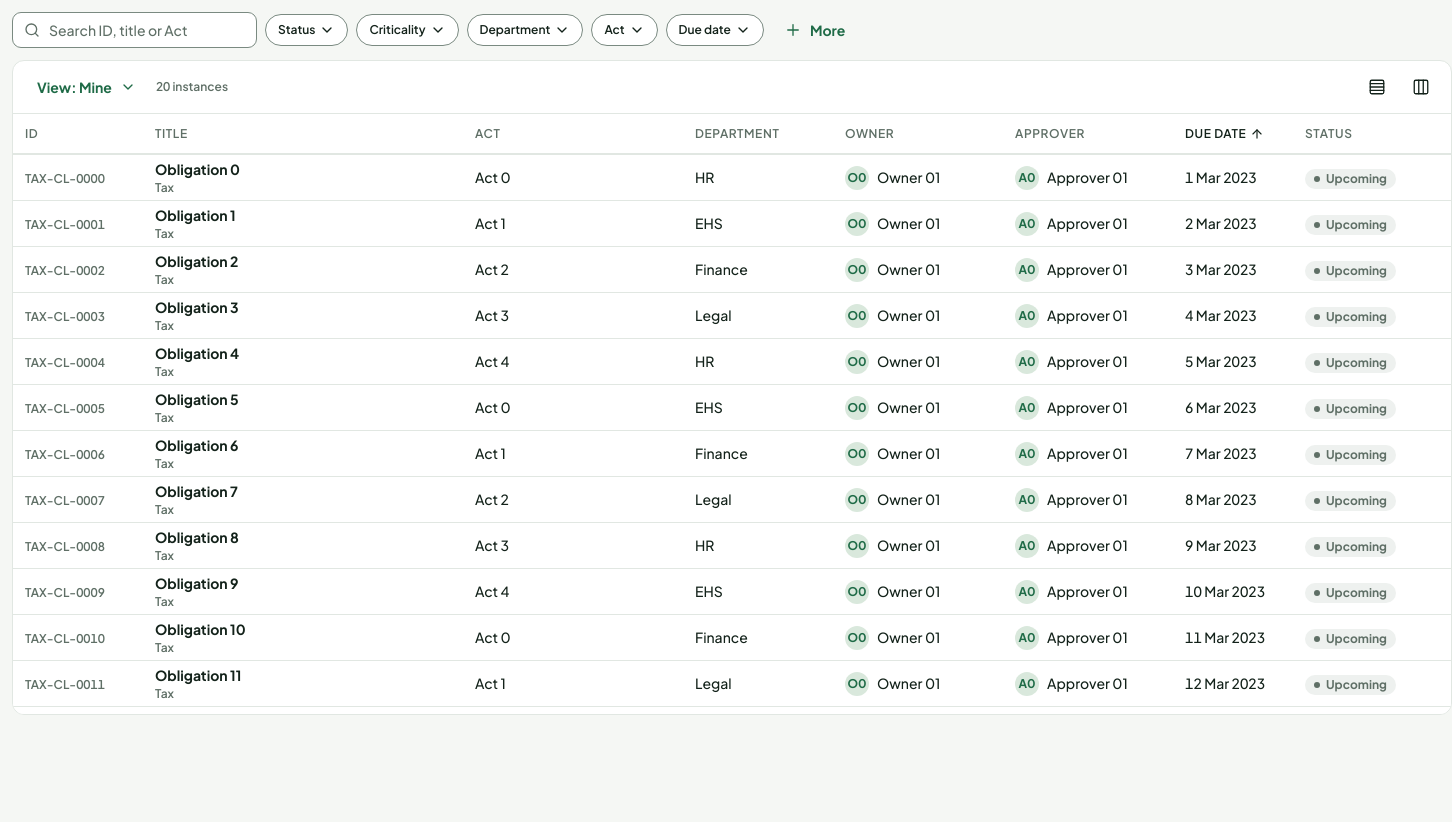
saved views › saves a changed layout into the current view
Expected: the button "View: Mine" is shown, [25,71,148,103]
Step 1. Click the button named "Compact rows" → click(1377, 87), box [1359,69,1395,105]
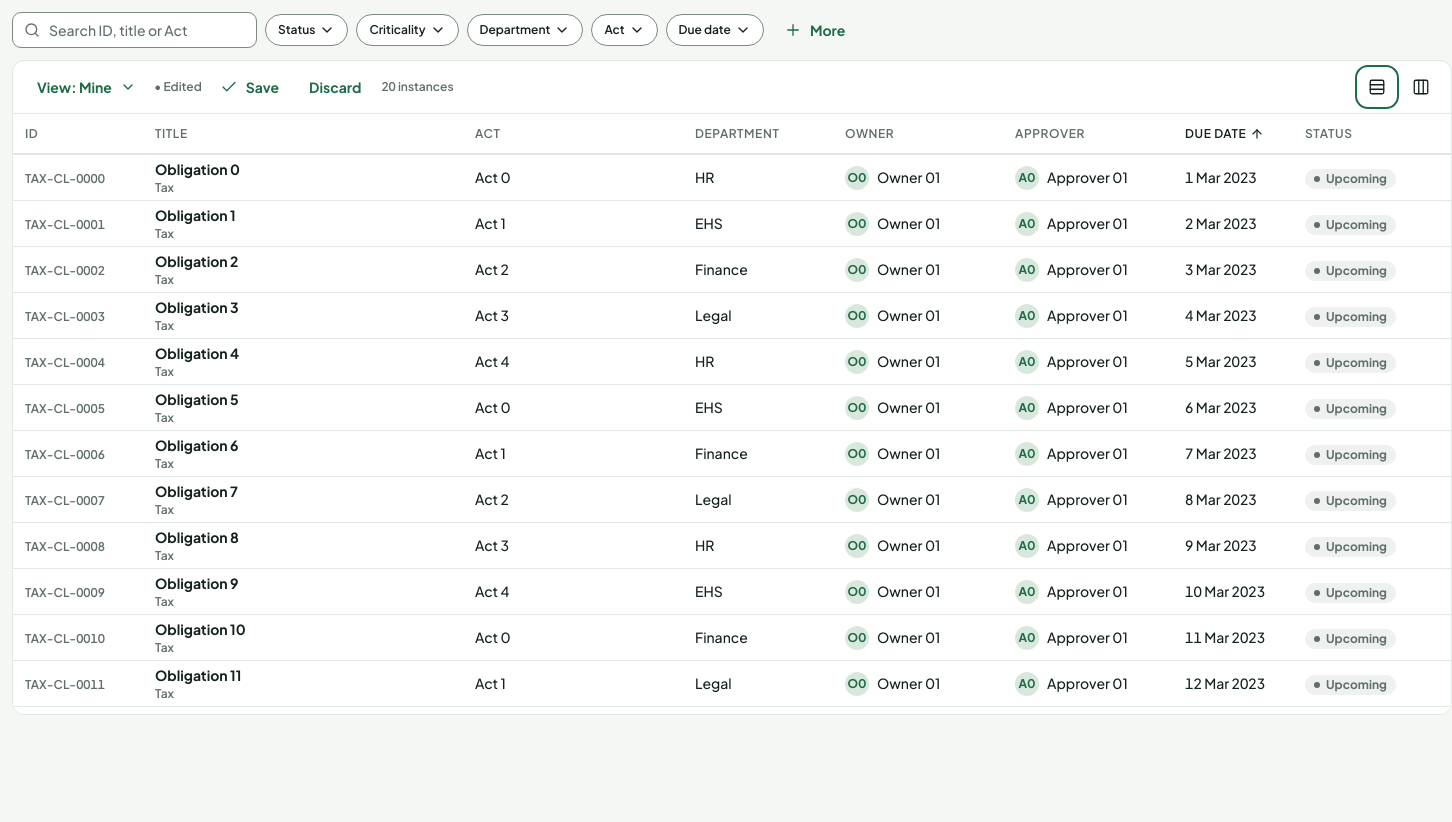
Step 2. Click the button "Save" → click(249, 87), box [208,71,291,103]
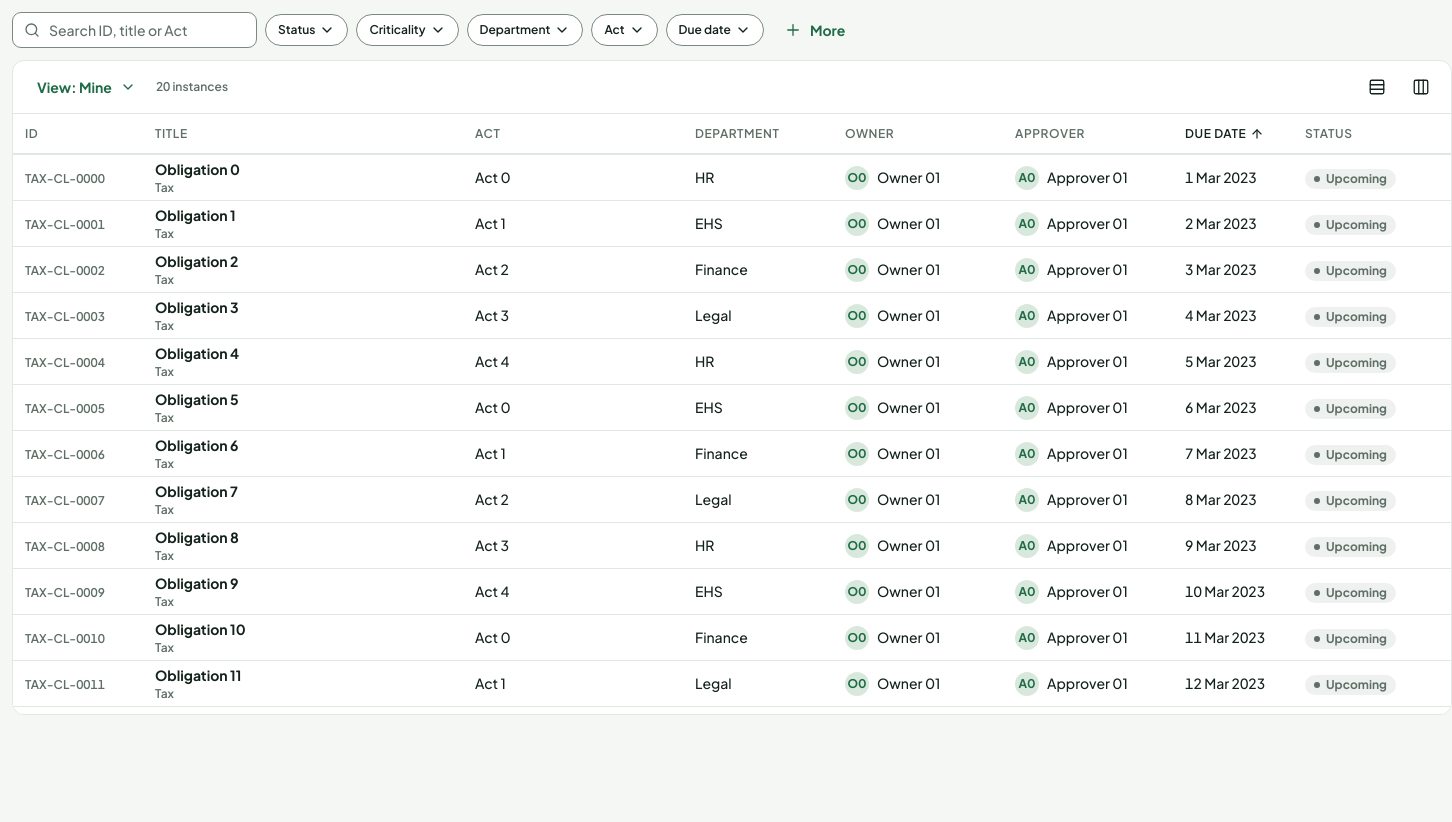
Result: the text "Edited" is gone
